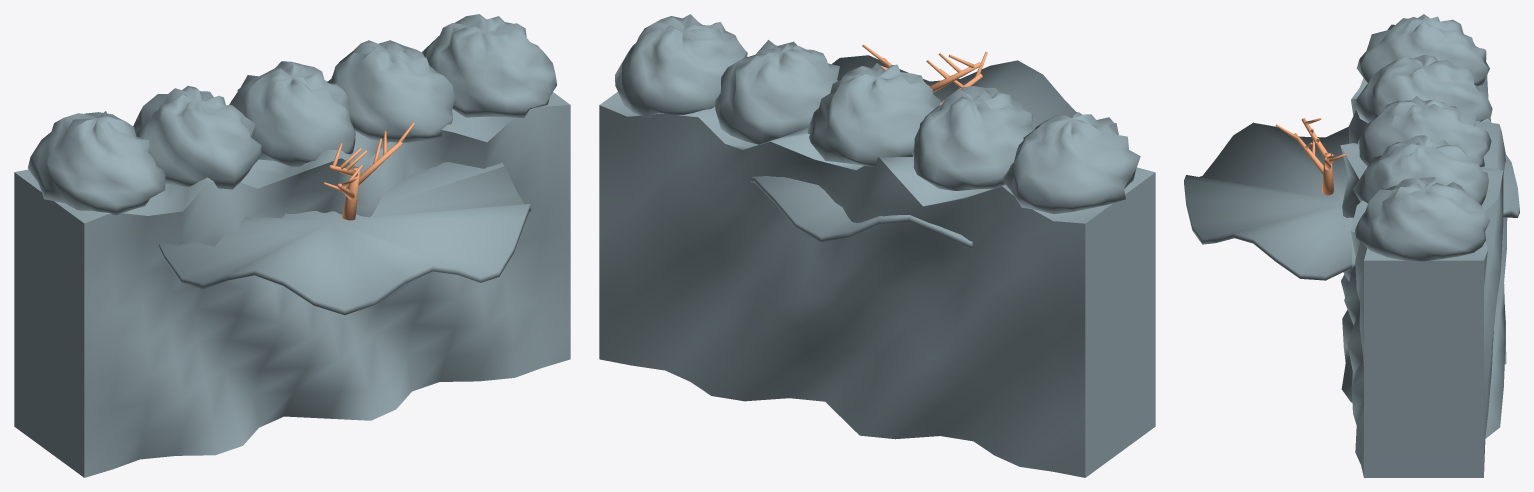
The model's file is reef-wall-overhang.glb.
The picture shows the model from 3 angles, left to right: view 1: azimuth 30°, elevation 25°; view 2: azimuth 150°, elevation 25°; view 3: azimuth 270°, elevation 25°; orthographic projection. The views are drawn at different scales.
Visible parts, largest first — view 1: reef-wall-overhang; view 2: reef-wall-overhang; view 3: reef-wall-overhang.
Boxes of the visible parts, <box> form: reef-wall-overhang: <box>14,14,570,477</box>; reef-wall-overhang: <box>599,14,1155,477</box>; reef-wall-overhang: <box>1184,14,1519,477</box>.
Bounding box in the file's own units: 4.11 × 2.54 × 2.8.
